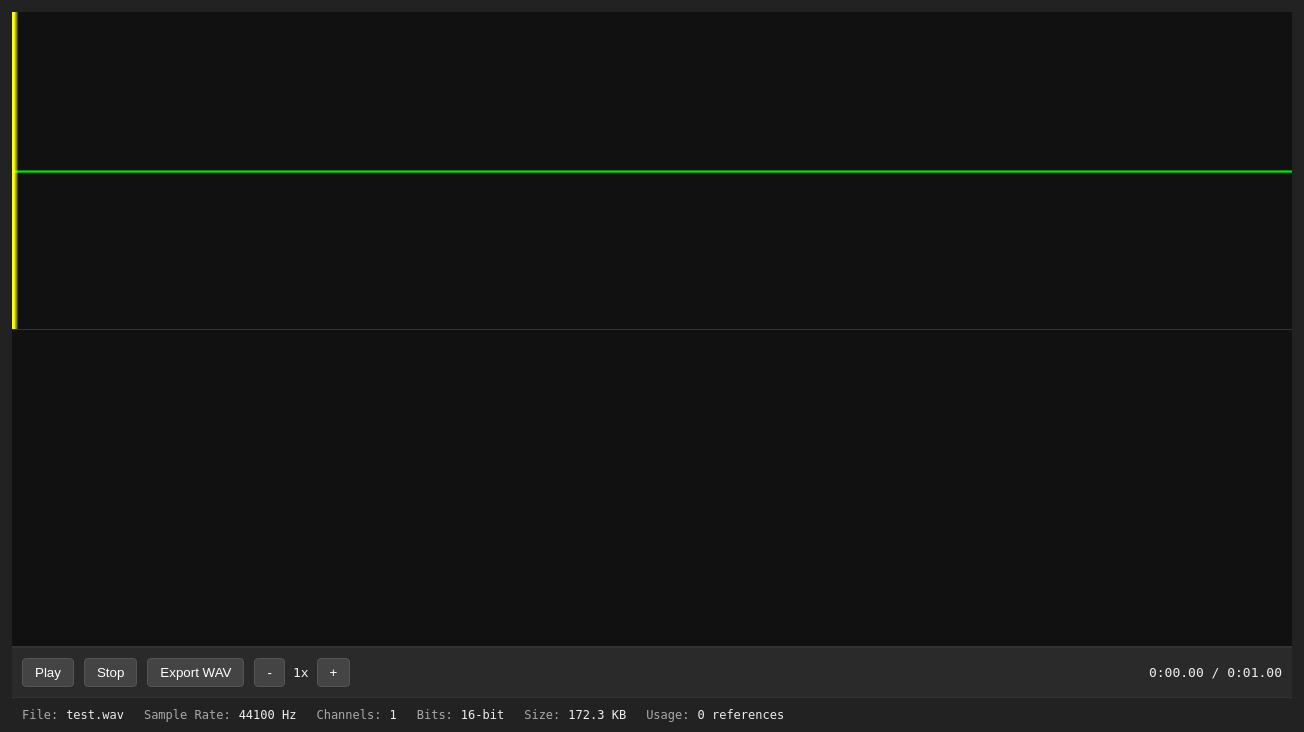
Test: SoundAnalyzer › toggles play/pause
// Click play
Click the button with test id "play-pause-btn" at (48, 672), box [22, 658, 74, 687]
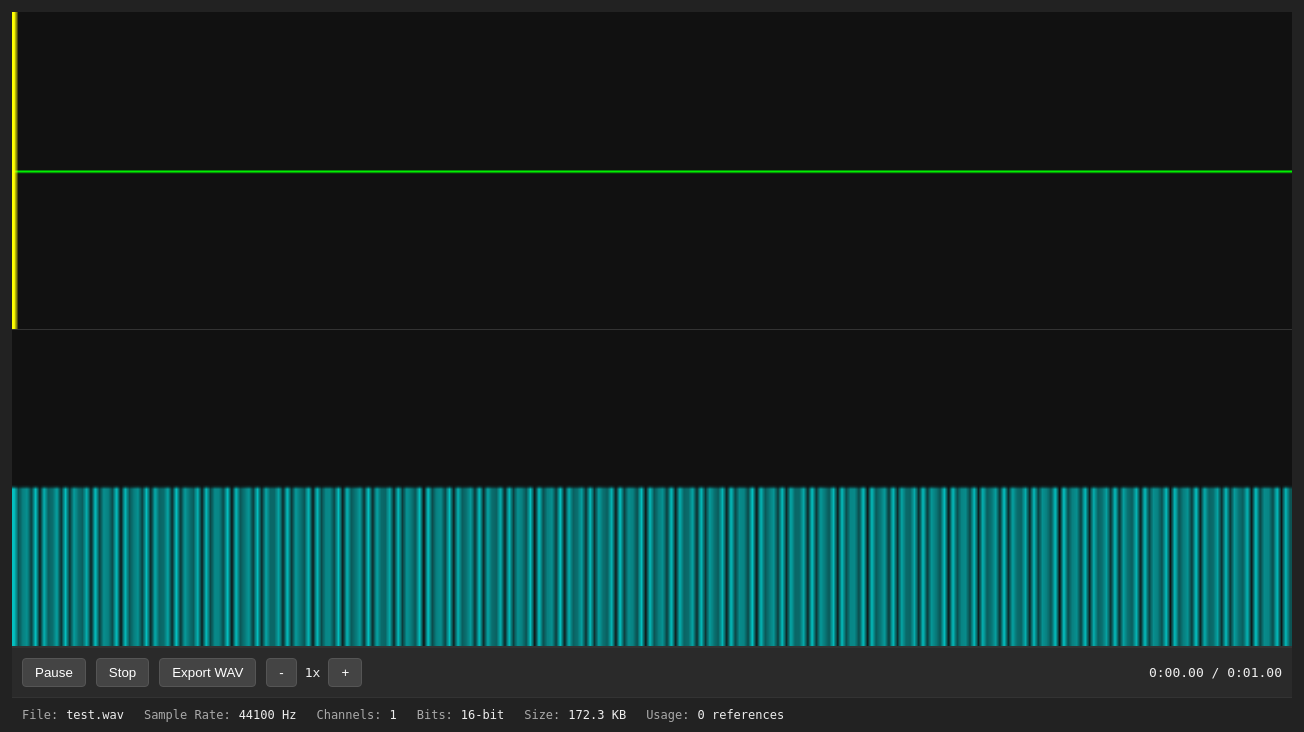
Expected: the button with test id "play-pause-btn" reads "Pause"
// Click pause
Click the button with test id "play-pause-btn" at (54, 672), box [22, 658, 86, 687]
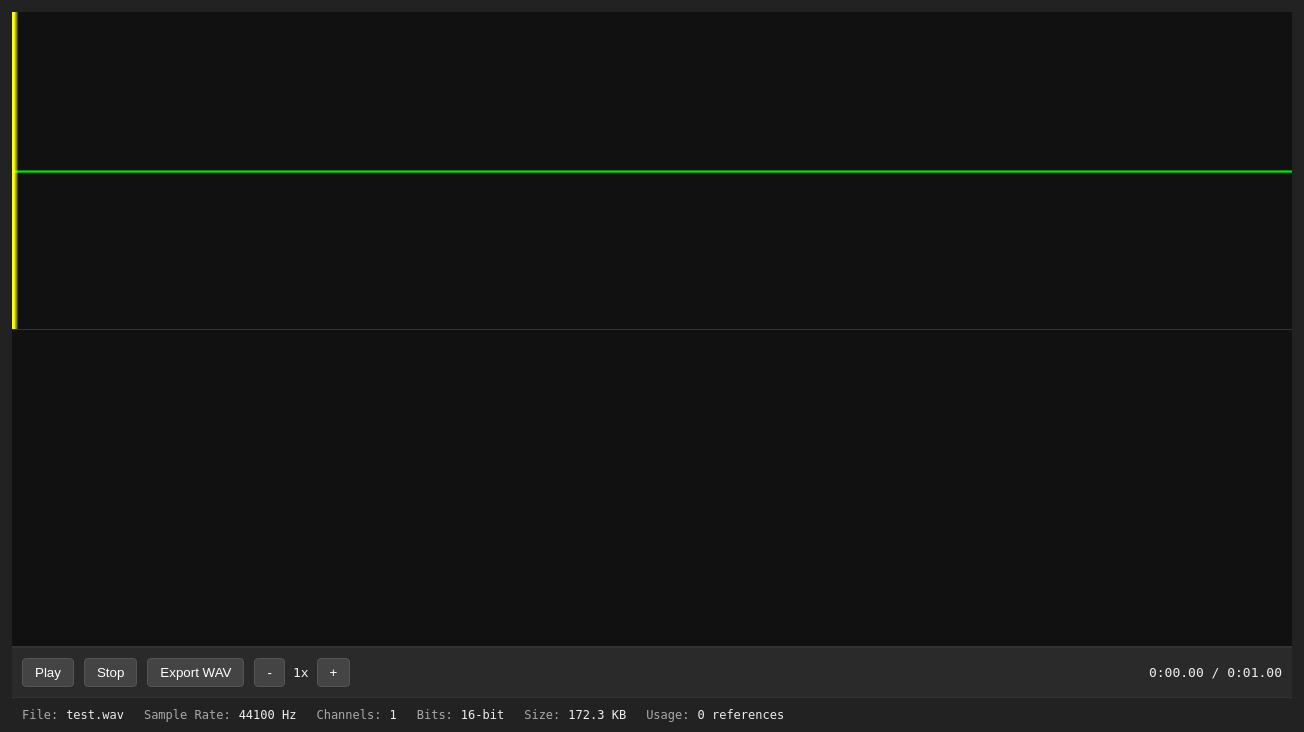
Expected: the button with test id "play-pause-btn" reads "Play", [22, 658, 74, 687]
